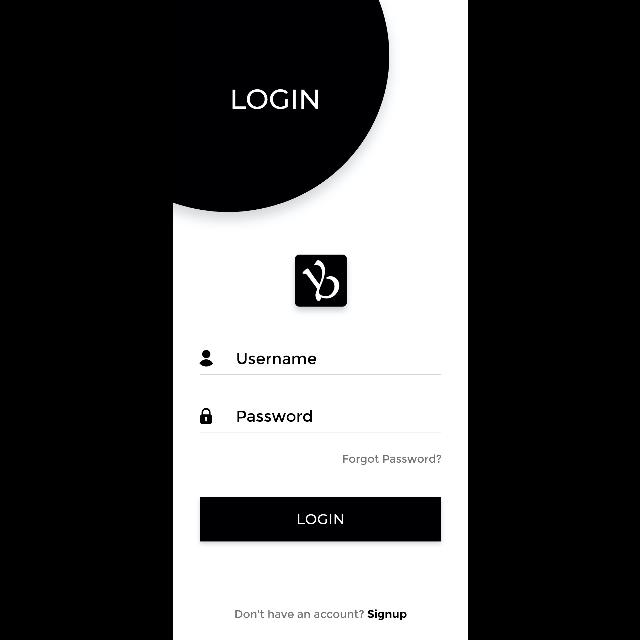icon: (200, 350, 212, 366), (200, 408, 210, 424)
image: (294, 255, 346, 307)
input: (199, 350, 441, 376), (199, 408, 441, 432)
text: (232, 89, 318, 109), (234, 610, 406, 620), (343, 454, 441, 466), (237, 353, 316, 365), (236, 410, 312, 422)
textbutton: (199, 498, 441, 542)
